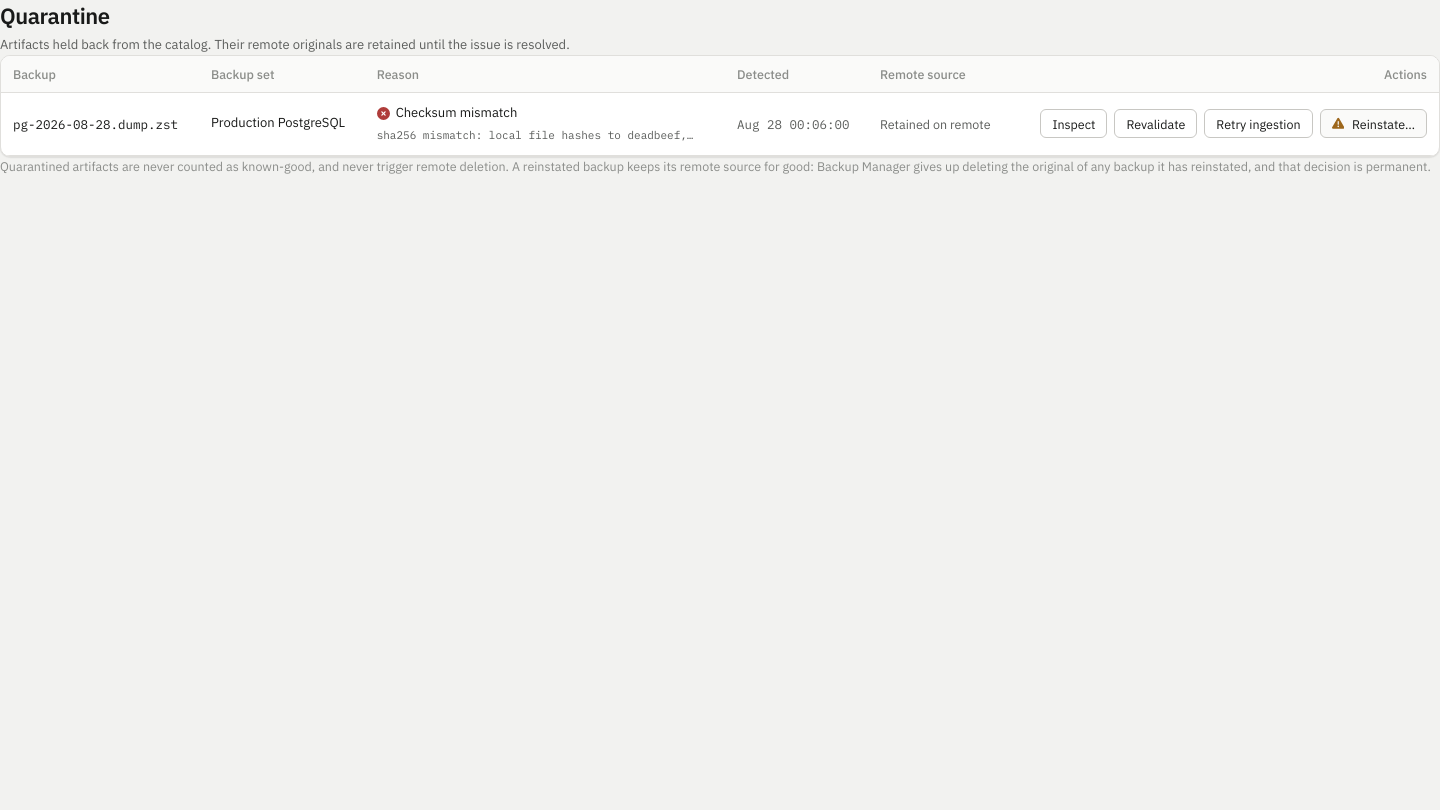
Scenario: QuarantinePage: the confirmation discloses the permanent forfeiture › asks nothing of the backend until the confirmation is taken
The image size is (1440, 810).
What coordinates should you click on to do the following:
click the button "Reinstate…"
I would click on:
 (1373, 124)
Its box is [1320, 109, 1427, 138].
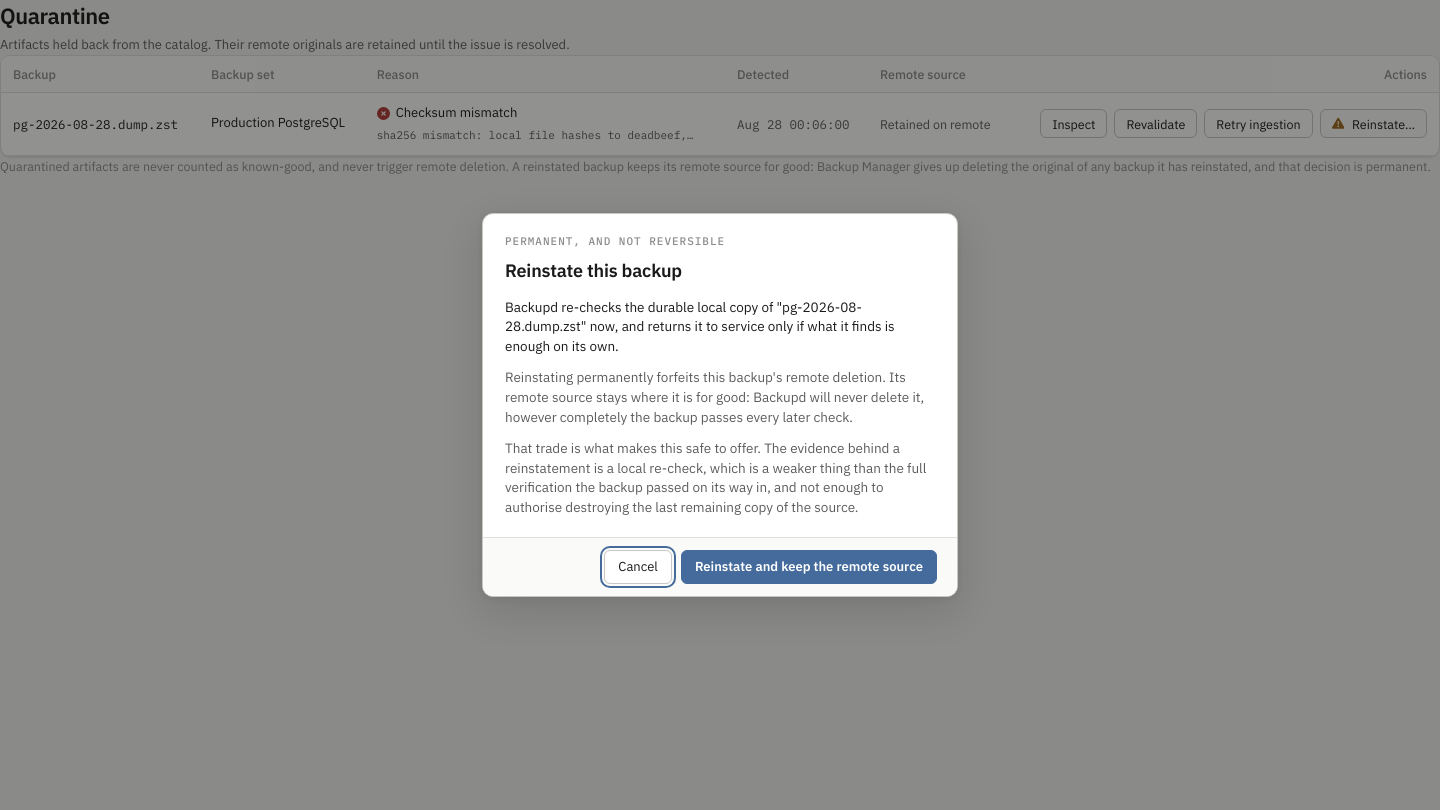
Now the dialog is shown, box [482, 213, 958, 597]
